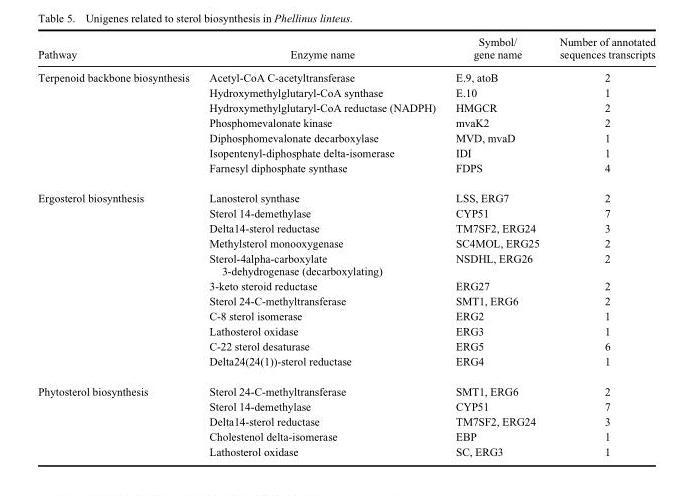table: (37, 36, 654, 457)
table column: (198, 36, 445, 457), (37, 36, 198, 457), (548, 36, 654, 457), (445, 36, 548, 457)
table column header: (37, 36, 654, 66)
table row: (37, 36, 654, 66), (37, 251, 654, 278), (37, 160, 654, 183), (37, 183, 654, 206), (37, 376, 654, 399), (37, 354, 654, 376), (37, 66, 654, 85), (37, 308, 654, 324), (37, 85, 654, 100), (37, 100, 654, 115), (37, 115, 654, 130), (37, 130, 654, 145), (37, 145, 654, 160), (37, 206, 654, 221), (37, 221, 654, 236), (37, 236, 654, 251), (37, 278, 654, 293), (37, 293, 654, 308), (37, 324, 654, 339), (37, 339, 654, 354), (37, 399, 654, 414), (37, 414, 654, 429), (37, 429, 654, 444), (37, 444, 654, 457)
table spanning cell: (37, 183, 198, 376), (37, 66, 198, 183), (37, 376, 198, 457)
